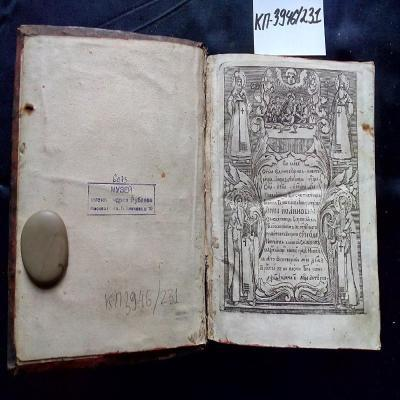rare_books: (10, 26, 382, 363)
